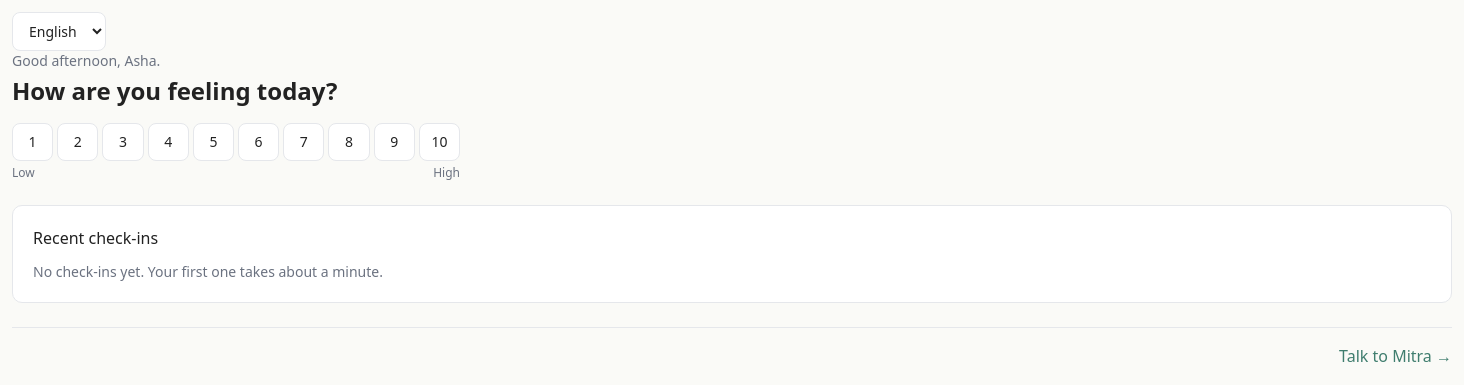
Scenario: Language selector › switches UI labels to Telugu and saves the preference
Select "తెలుగు" in the dropdown named "Language" at (59, 32), box [12,12,106,51]
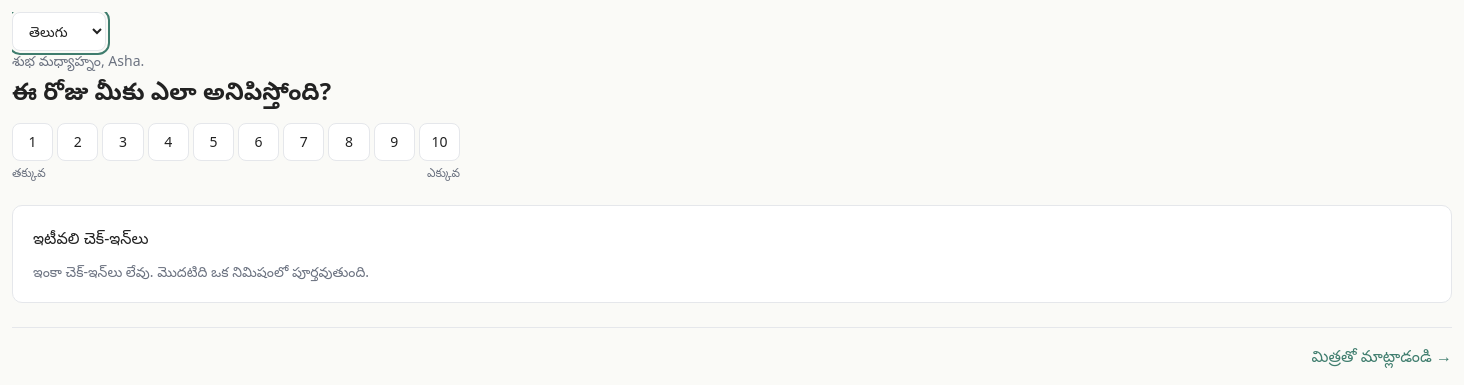
Result: the heading "ఈ రోజు మీకు ఎలా అనిపిస్తోంది?" is shown at [12,74,331,107]
